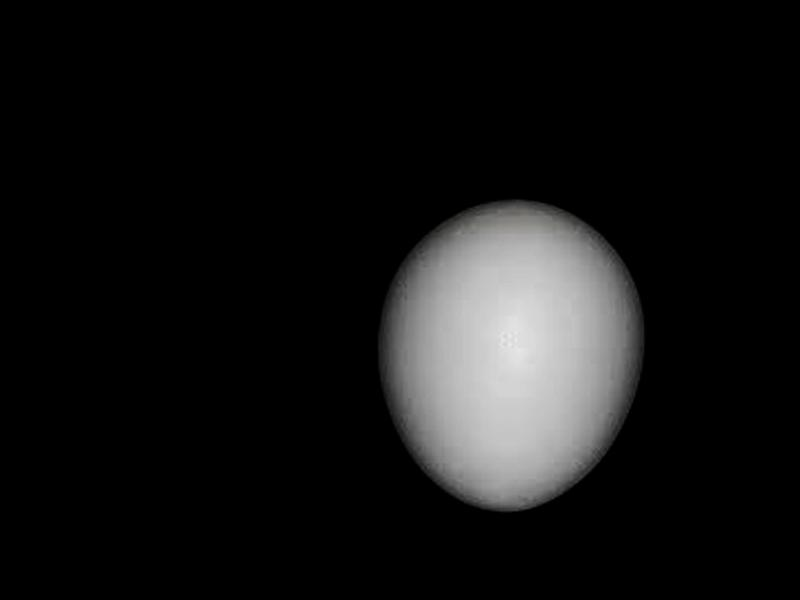Eggs: (376, 199, 645, 510)
